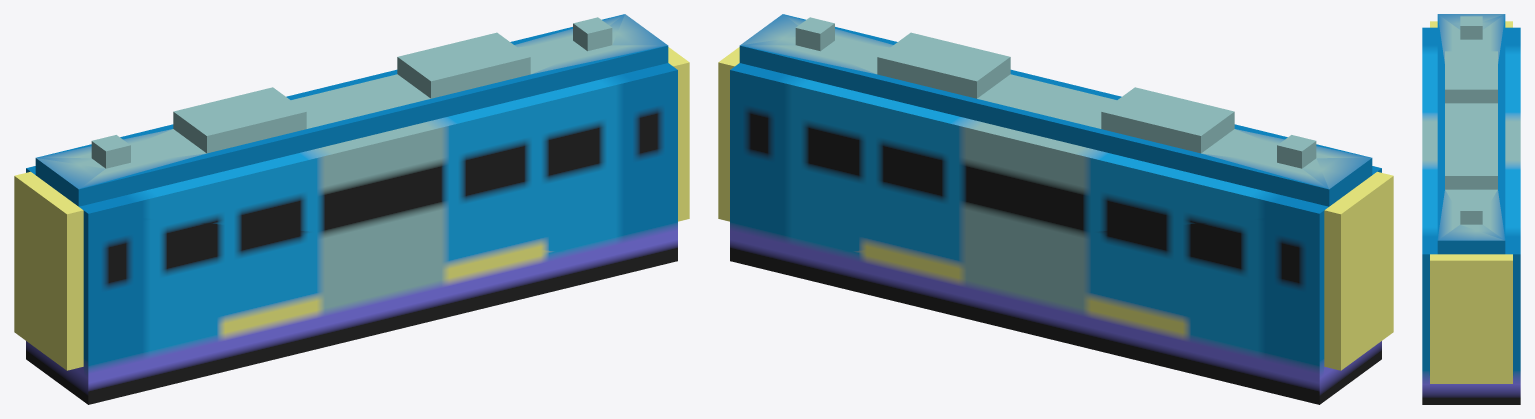
Rendered from veh_train_middle.dae.
3 renders of one model, left to right at view 1: azimuth 30°, elevation 25°; view 2: azimuth 150°, elevation 25°; view 3: azimuth 270°, elevation 25°, orthographic. The views are drawn at different scales.
Visible parts, largest first — view 1: veh_train_middle; view 2: veh_train_middle; view 3: veh_train_middle.
Boxes of the visible parts, <box> form: veh_train_middle: <box>14,14,689,404</box>; veh_train_middle: <box>718,14,1393,404</box>; veh_train_middle: <box>1422,14,1520,404</box>.
Size of the model in its own units: 7.5 by 2.6 by 1.3.
